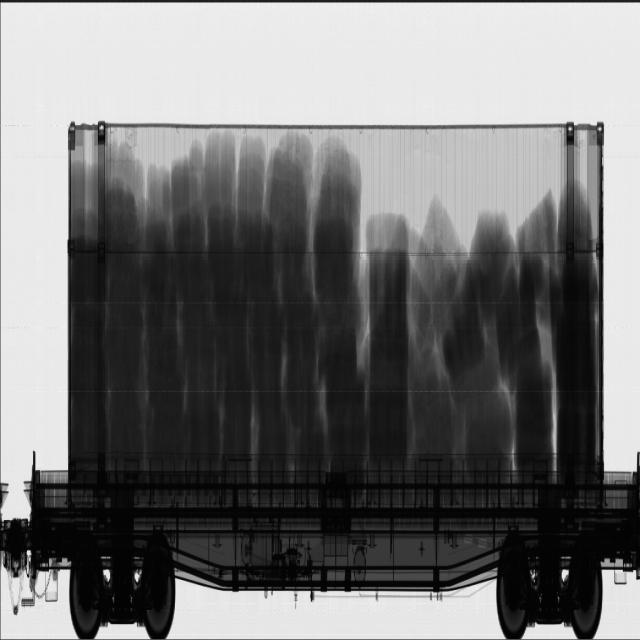clothes: (71, 131, 599, 463)
